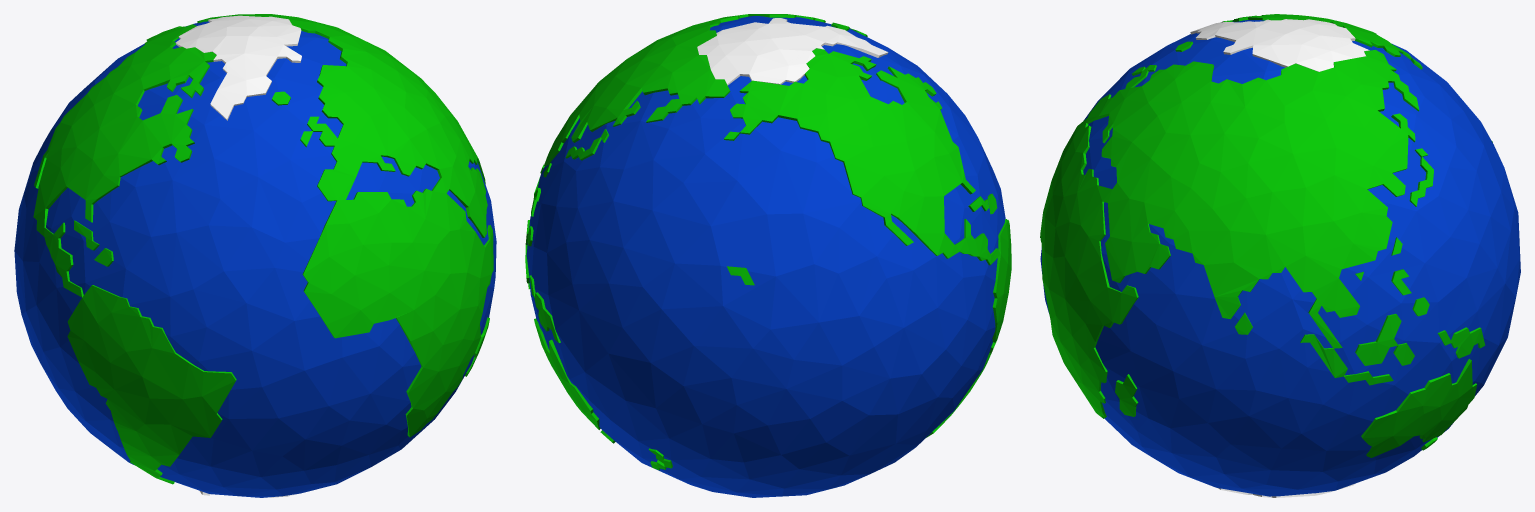
File: earth.glb
3 renders of one model, left to right at view 1: azimuth 30°, elevation 25°; view 2: azimuth 150°, elevation 25°; view 3: azimuth 270°, elevation 25°, orthographic.
Visible parts, largest first — view 1: Low Poly Earth; view 2: Low Poly Earth; view 3: Low Poly Earth.
Part boxes in pixels (x1=…): Low Poly Earth: x1=14, y1=14, x2=496, y2=497; Low Poly Earth: x1=525, y1=14, x2=1011, y2=497; Low Poly Earth: x1=1040, y1=14, x2=1520, y2=497.
Size of the model in its own units: 5.94 by 5.98 by 5.94.
